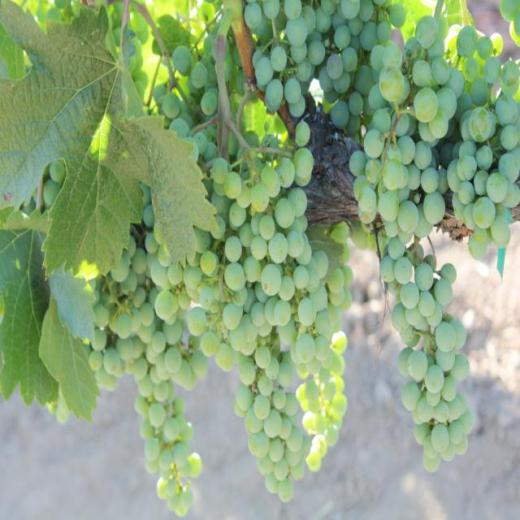Orange: (76, 0, 520, 519), (44, 178, 61, 206), (49, 160, 65, 183), (32, 188, 44, 204)
